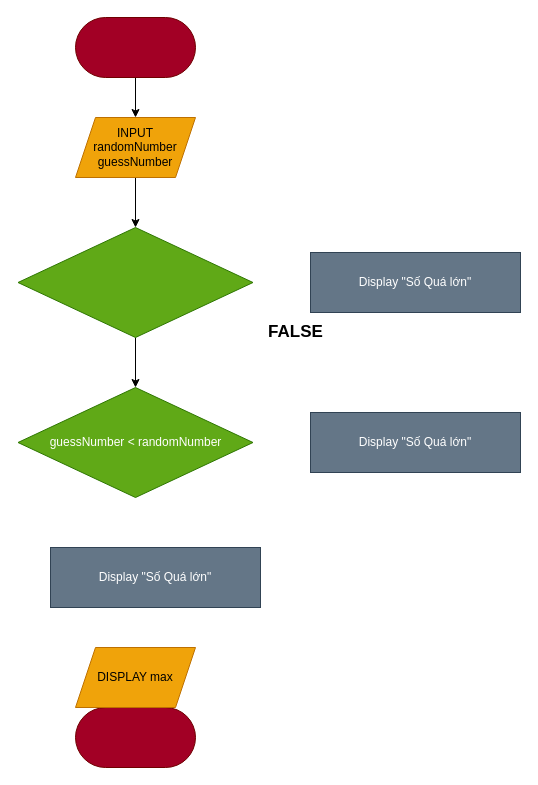
The diagram is 538 pixels wide and 785 high, and some of its shapes have lost their labels. The box of each missing label's shape, as (x1, y1, x2, y2) in pixels:
END: (74, 706, 196, 768)
guessNumber > randomNumber: (17, 226, 253, 338)
START: (74, 16, 196, 78)
